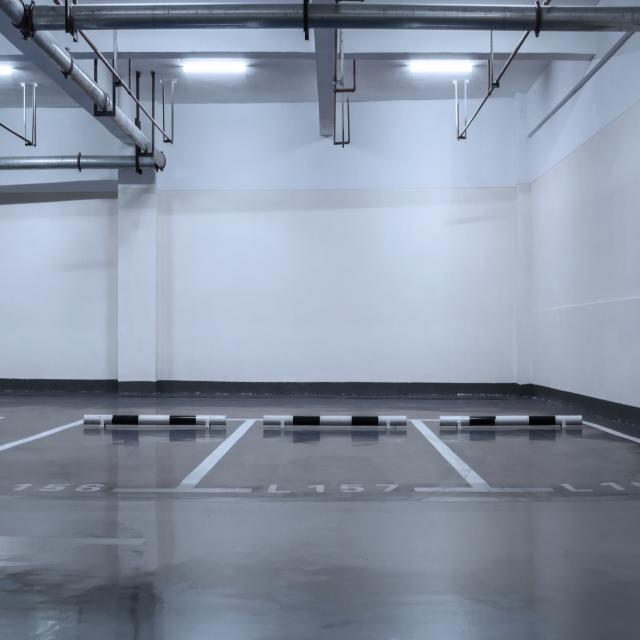rebar: (0, 154, 131, 170)
